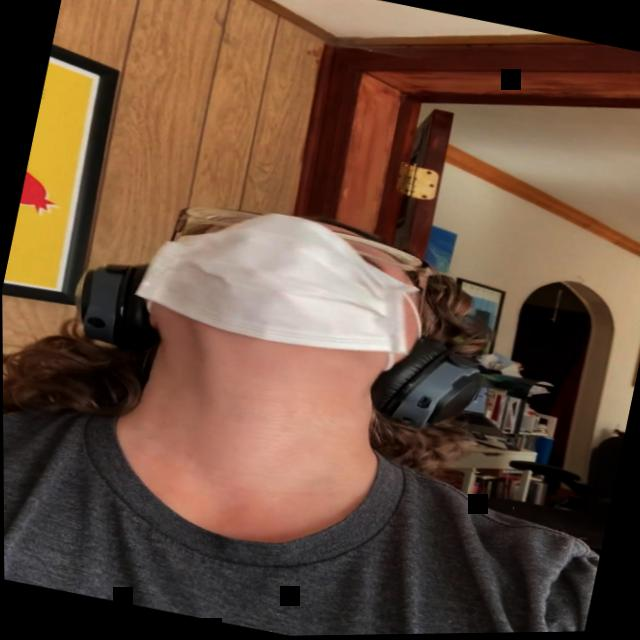Mask: (127, 187, 450, 386)
